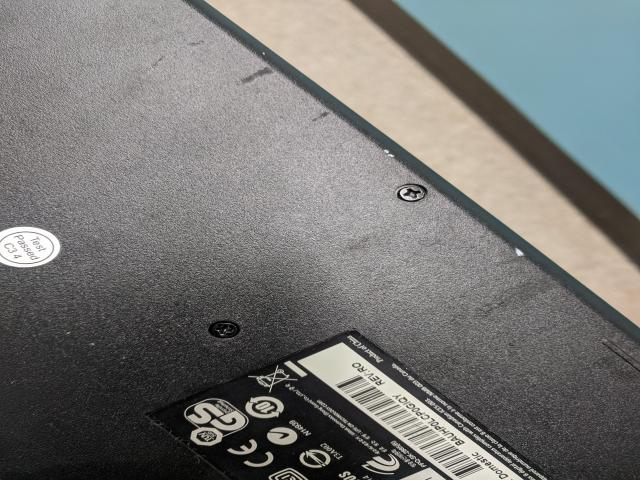CRS: (397, 184, 427, 202), (209, 321, 240, 337)
